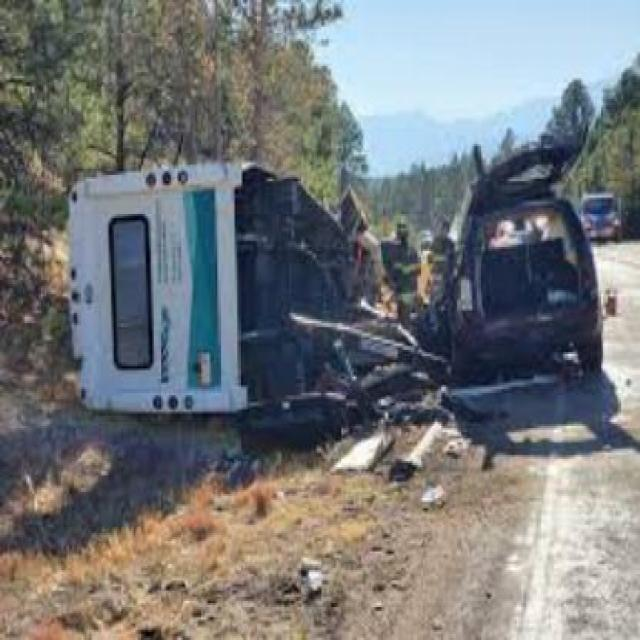accident: (58, 126, 610, 430)
